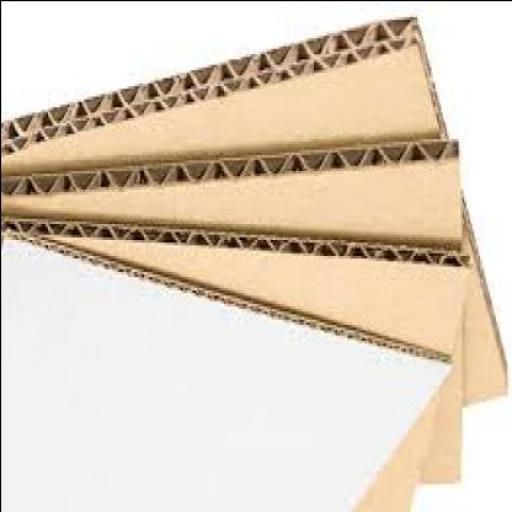cardboard: (0, 19, 505, 406), (1, 140, 469, 489), (1, 229, 449, 511)
